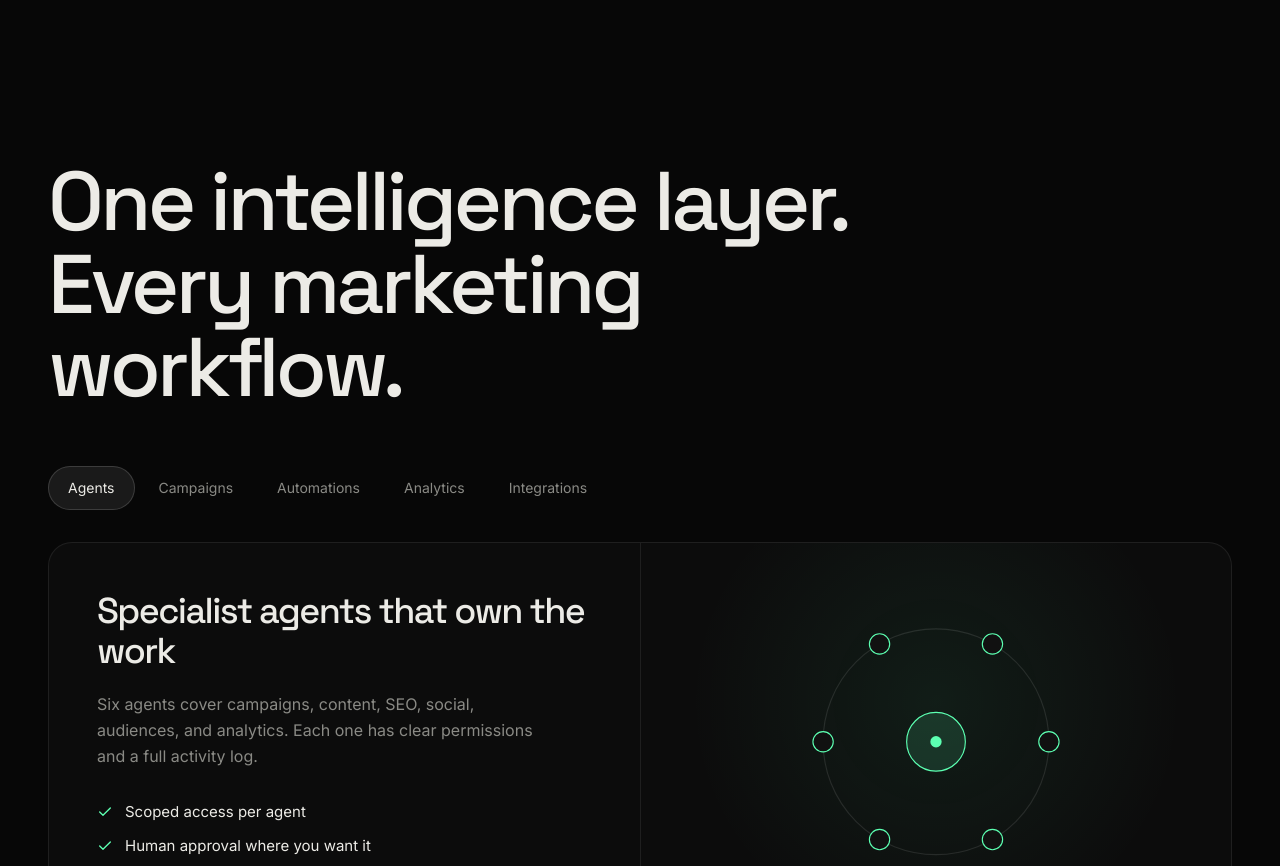
Platform tabs › switches content when a tab is clicked
This screenshot has width=1280, height=866.
Click the tab "Campaigns" at (196,488), box [138,466,253,510]
(page scrolled)
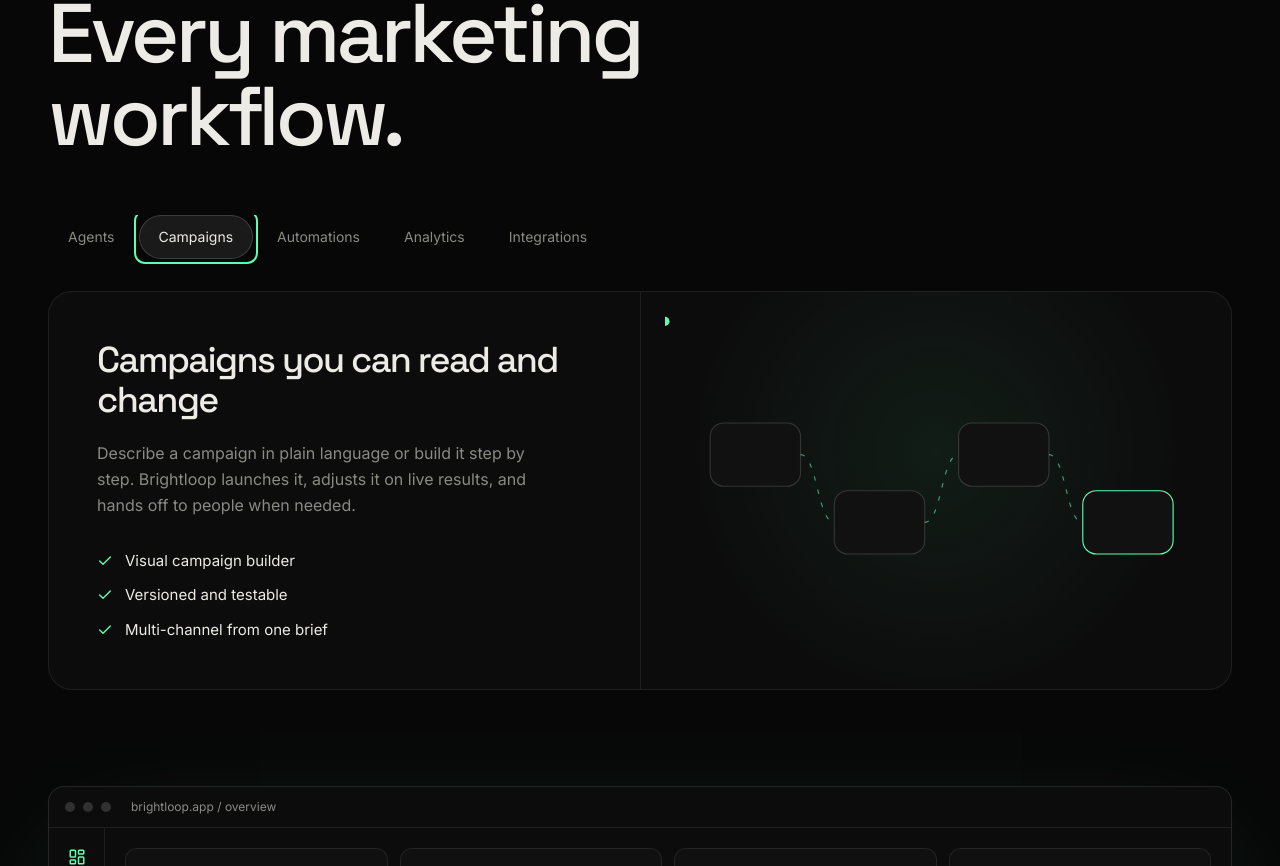
Check: the panel shows "Campaigns you can read and change", box [97,337,558,423]
